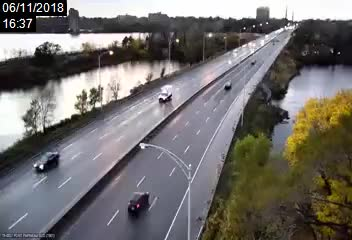personal_car: (31, 150, 63, 172), (126, 189, 150, 216), (158, 85, 172, 103), (224, 81, 232, 90)
